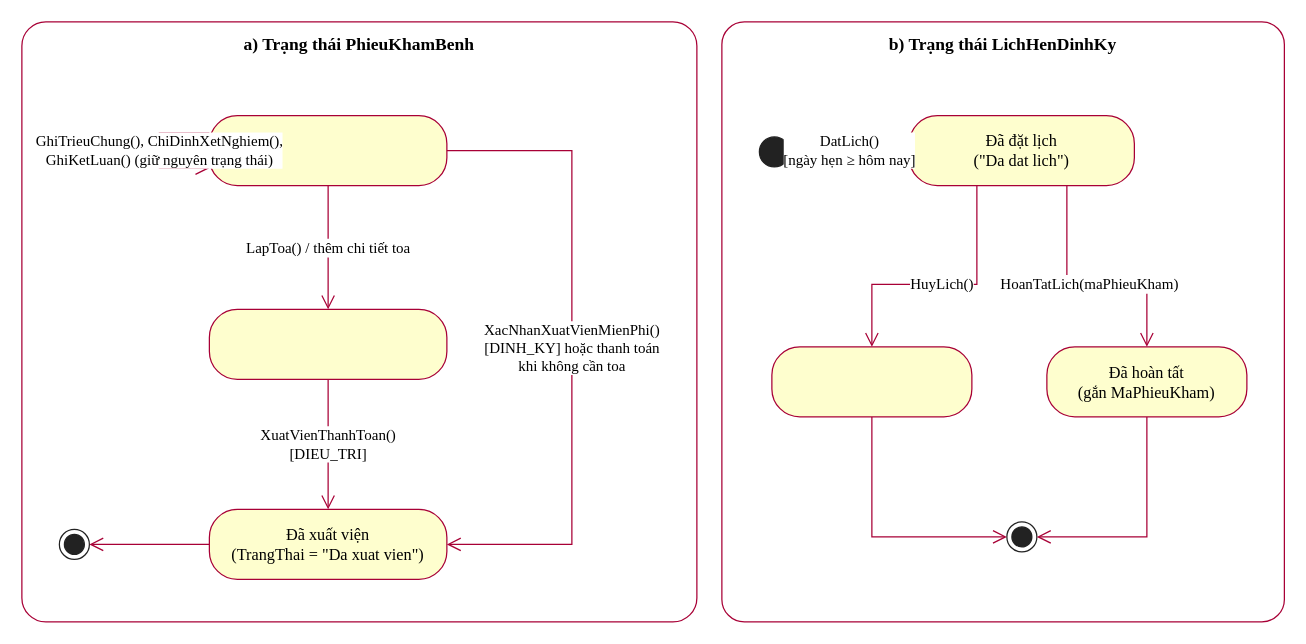
Image size: 1306x644. Some labels were removed from this diagram. Each missing label, with the centre of its shape:
Đang khám (TrangThai = "Dang kham"): (327,150)
Đã hủy ("Da huy"): (871,381)
Đã lập toa (TrangThai = "Da lap toa"): (327,343)
